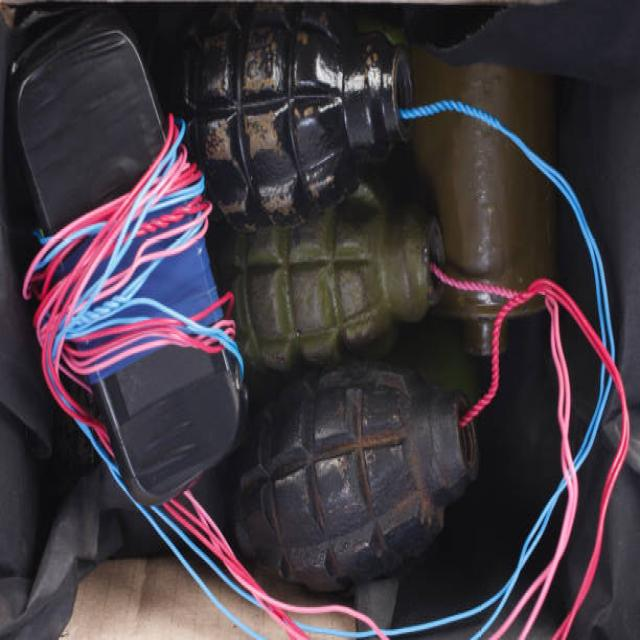grenade: (235, 360, 478, 582), (193, 7, 418, 237), (226, 200, 454, 369)
